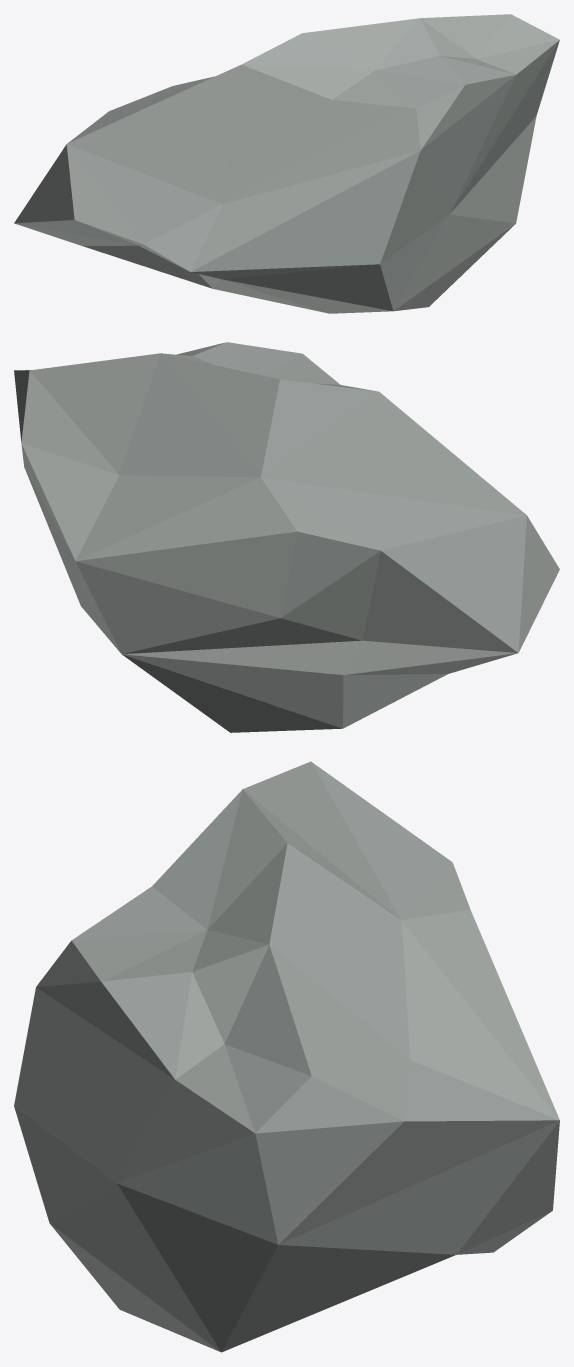
The model's file is Rock1.fbx.
3 renders of one model, top to bottom at view 1: azimuth 30°, elevation 25°; view 2: azimuth 150°, elevation 25°; view 3: azimuth 270°, elevation 25°, orthographic. The views are drawn at different scales.
Visible parts, largest first — view 1: Rock1.optimised; view 2: Rock1.optimised; view 3: Rock1.optimised.
Part boxes in pixels (bbox=[...]): Rock1.optimised: bbox=[14, 14, 559, 313]; Rock1.optimised: bbox=[14, 342, 559, 732]; Rock1.optimised: bbox=[14, 761, 559, 1352].
Size of the model in its own units: 6.09 by 3.13 by 3.59.
1 material, 1 textured.
